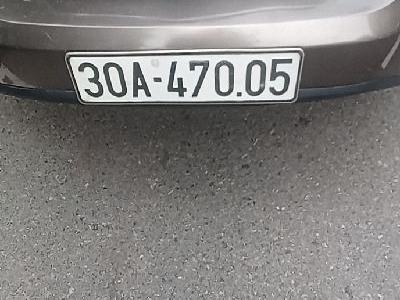number: (61, 48, 301, 105)
